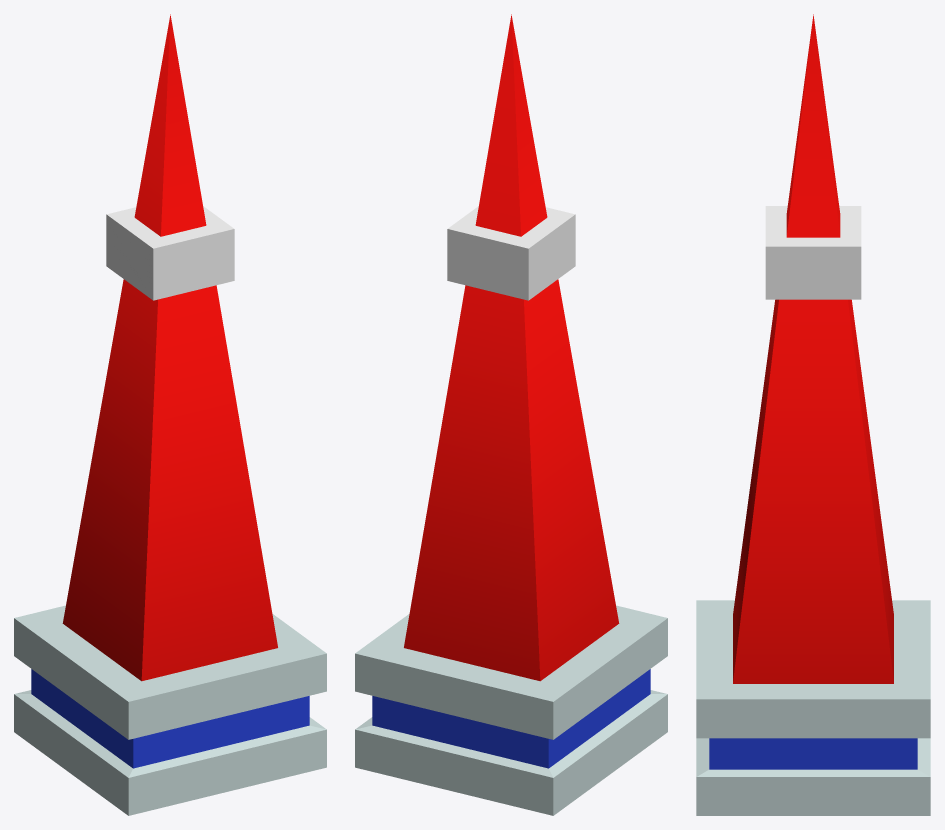
Rendered from 东京塔2UP.fbx.
The picture shows the model from 3 angles, left to right: view 1: azimuth 30°, elevation 25°; view 2: azimuth 150°, elevation 25°; view 3: azimuth 270°, elevation 25°; orthographic projection. The views are drawn at different scales.
Visible parts, largest first — view 1: Object_9; view 2: Object_9; view 3: Object_9.
Boxes of the visible parts, x1,y1,x2,y2 form: Object_9: [14, 14, 326, 815]; Object_9: [355, 14, 667, 815]; Object_9: [696, 14, 930, 815].
Bounding box in the file's own units: 63.92 × 227 × 63.92.
